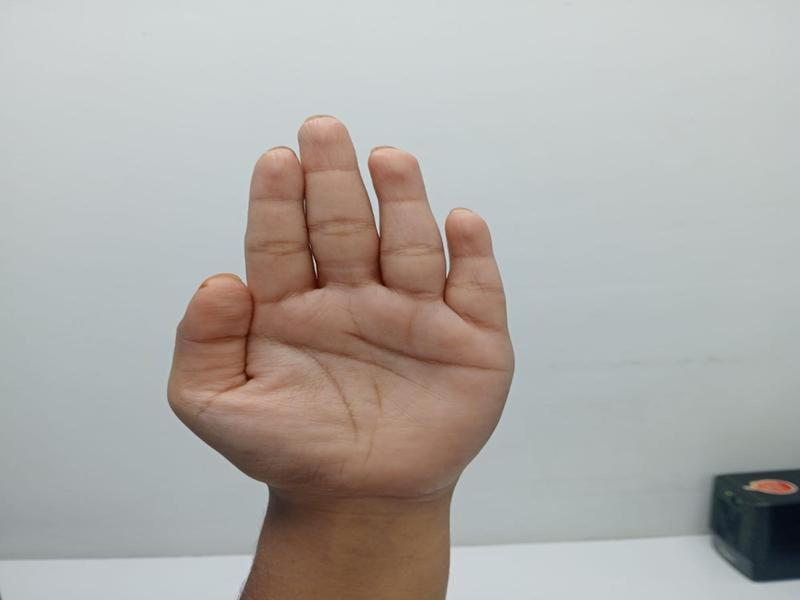REVERSE: (158, 105, 519, 600)
